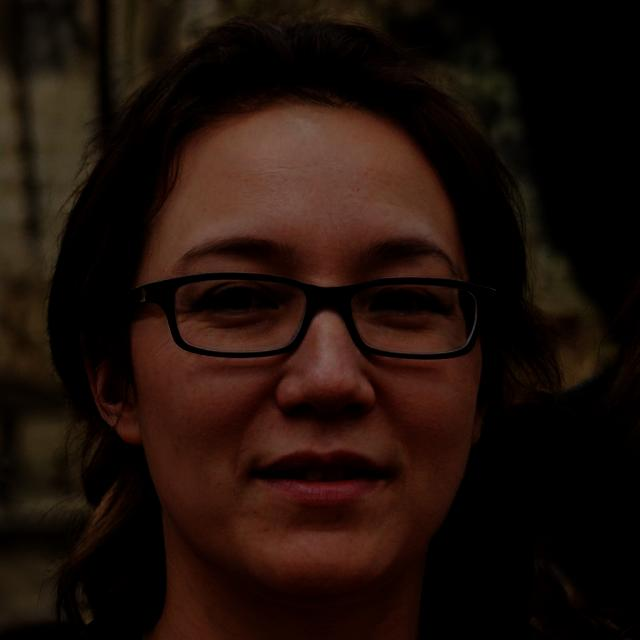lens: (174, 279, 307, 354), (351, 284, 478, 356)
